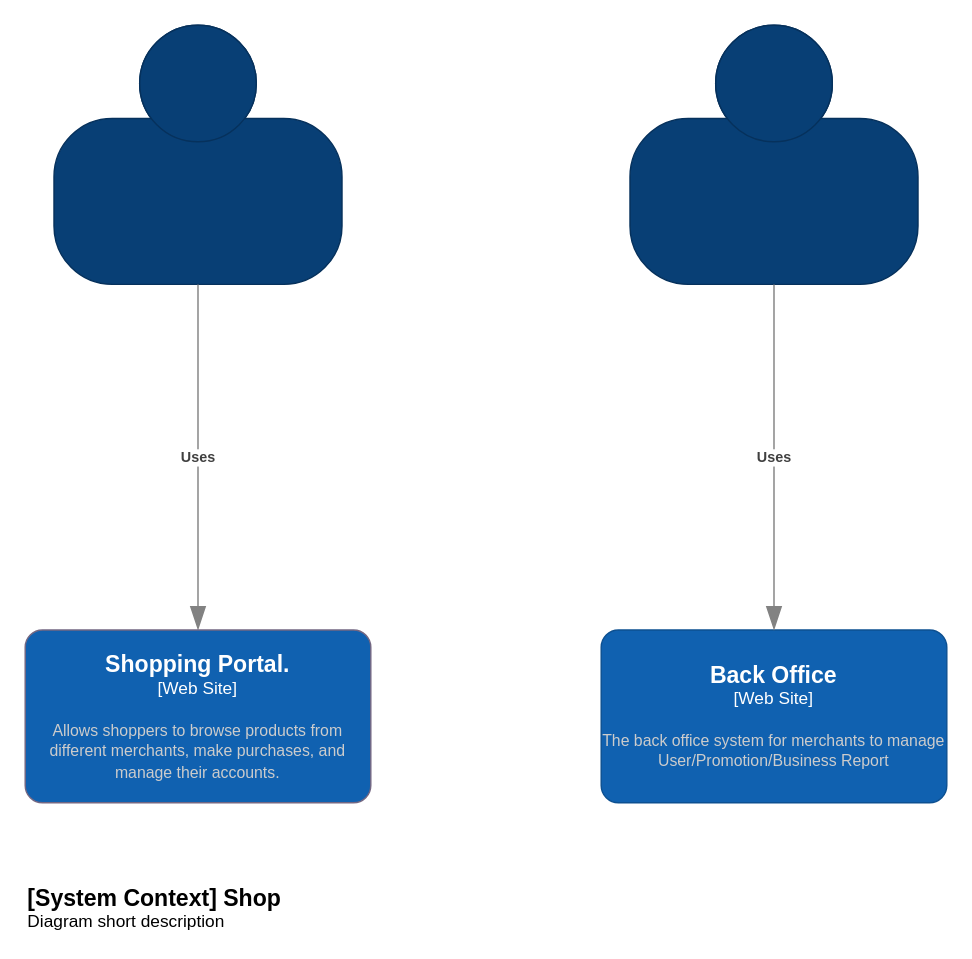
The diagram is 972 pixels wide and 959 high, and some of its shapes have lost their labels. The shapes that lost their labels are listed below. From the top down, each one's centre as x and y in pixels, then its label:
At pixel 197 154: "User [Person] User who purchase product".
At pixel 773 154: "Merchant [Person] Merchant who manage their stores.".
